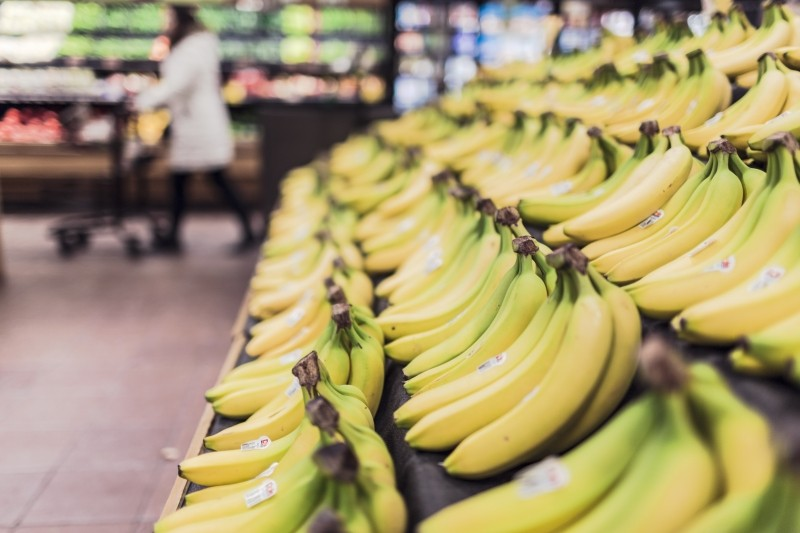banana: (453, 286, 611, 474), (634, 164, 799, 306), (385, 199, 501, 344), (575, 151, 695, 249), (177, 432, 301, 489)
